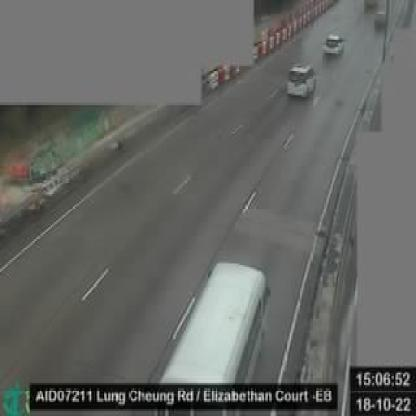Car: (148, 261, 270, 409), (285, 61, 319, 100), (322, 32, 348, 59)
